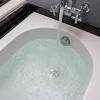bathub: (4, 12, 100, 100)
